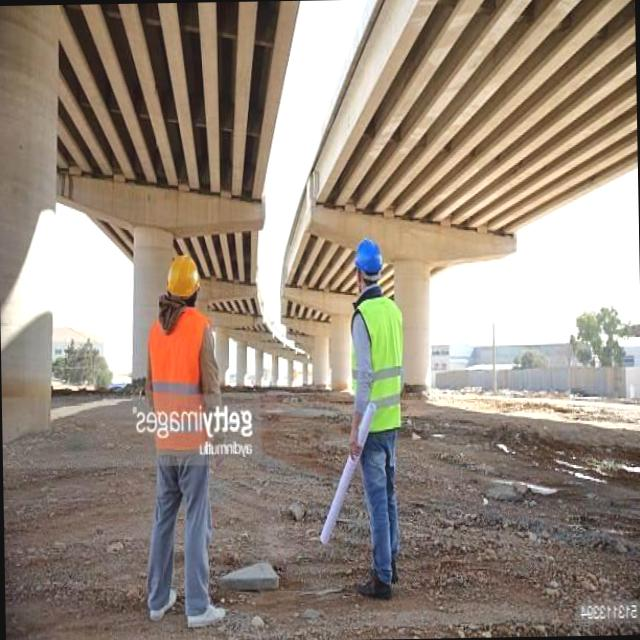helmet: (160, 245, 207, 301), (346, 226, 388, 283)
vest: (148, 310, 216, 483), (342, 288, 410, 438)
